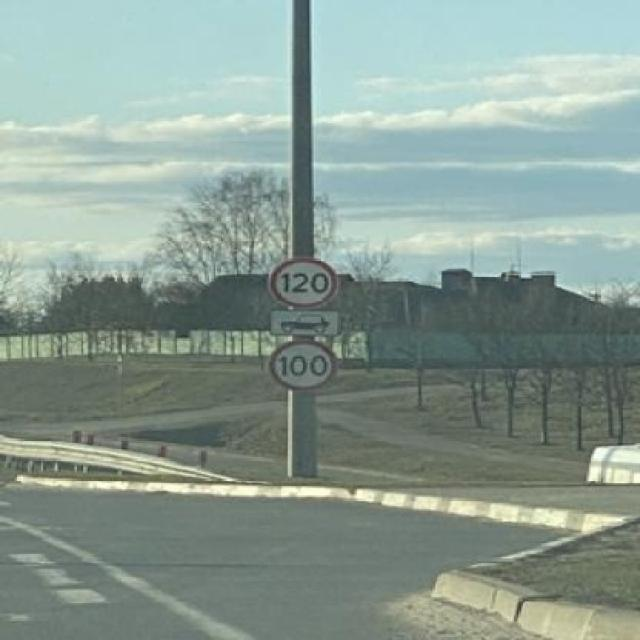forb_speed_over_100: (271, 336, 338, 392)
forb_speed_over_120: (270, 257, 341, 308)
